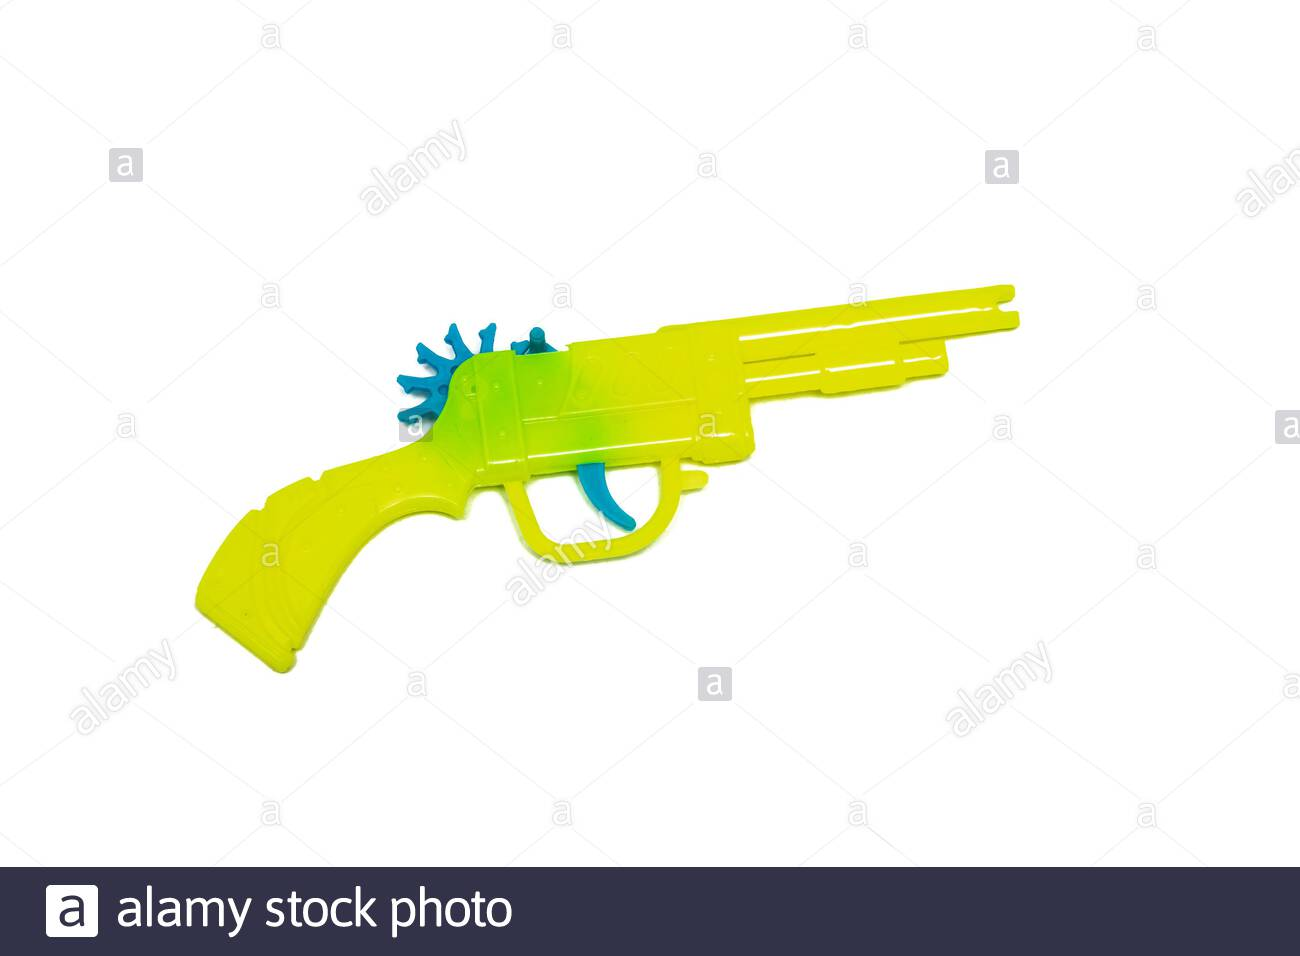Arma Falsa: (188, 281, 1027, 663)
